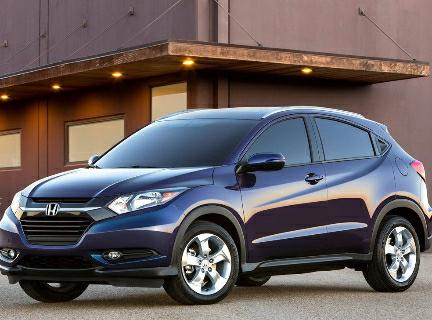本田-HR-V: (2, 100, 428, 306)
